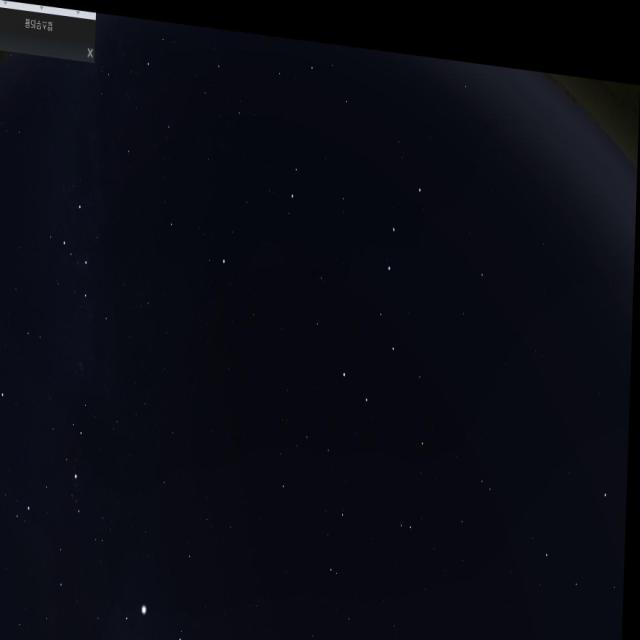cassiopeia: (55, 184, 125, 335)
ursa_major: (341, 143, 430, 418)
